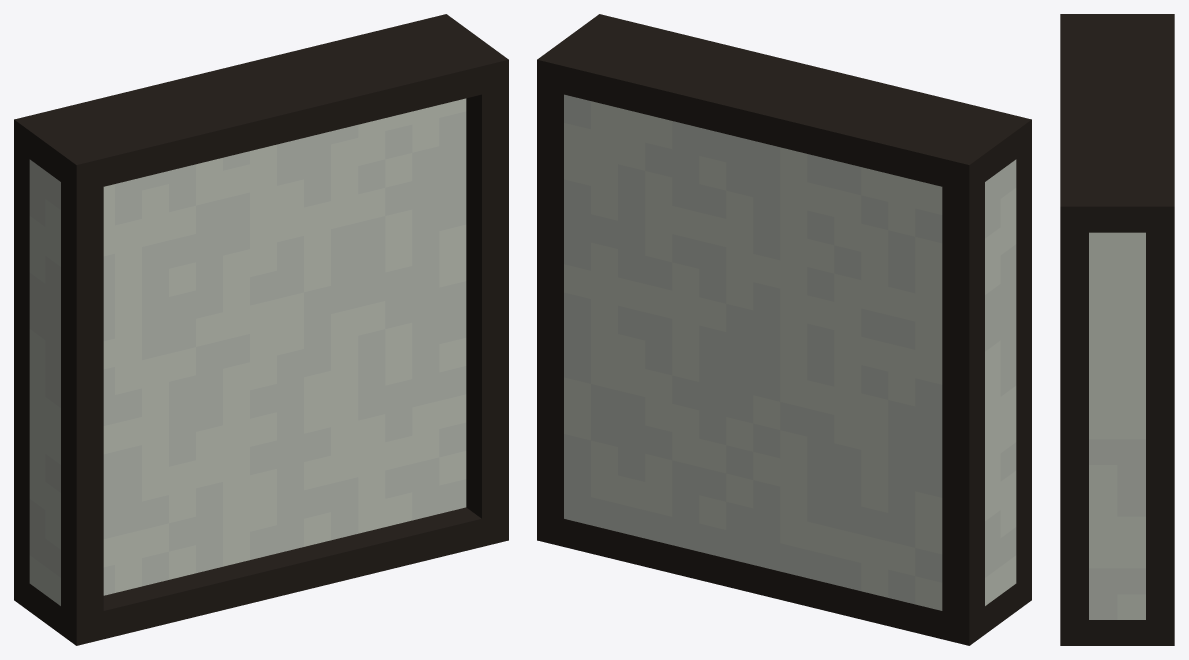
The model's file is tavern-71-wall_tudor4.obj.
The picture shows the model from 3 angles, left to right: view 1: azimuth 30°, elevation 25°; view 2: azimuth 150°, elevation 25°; view 3: azimuth 270°, elevation 25°; orthographic projection. The views are drawn at different scales.
Parts seen in each view (by area): view 1: wall_tudor4; view 2: wall_tudor4; view 3: wall_tudor4.
Boxes of the visible parts, left/top/right/bottom form: wall_tudor4: left=14, top=14, right=508, bottom=645; wall_tudor4: left=537, top=14, right=1031, bottom=645; wall_tudor4: left=1060, top=14, right=1174, bottom=645.
Bounding box in the file's own units: 1.6 × 1.7 × 0.4.
Materials: 1 (1 with a texture image).
